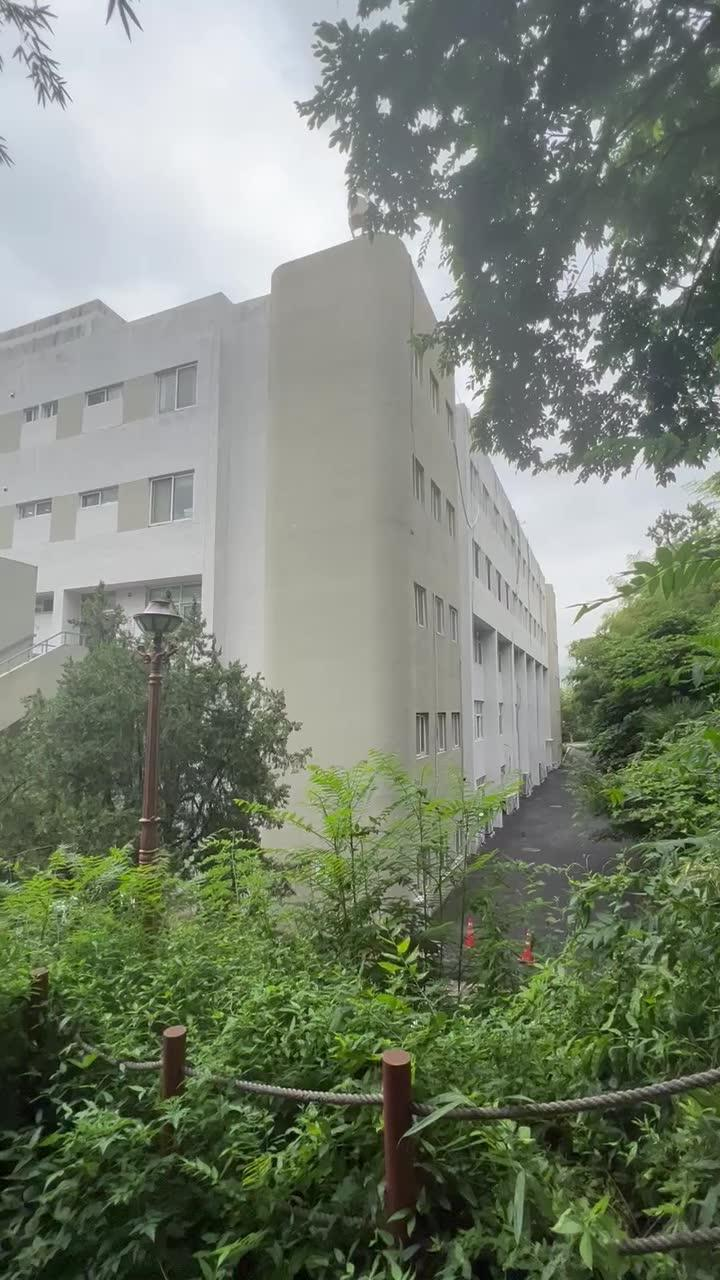building: (18, 256, 444, 668)
